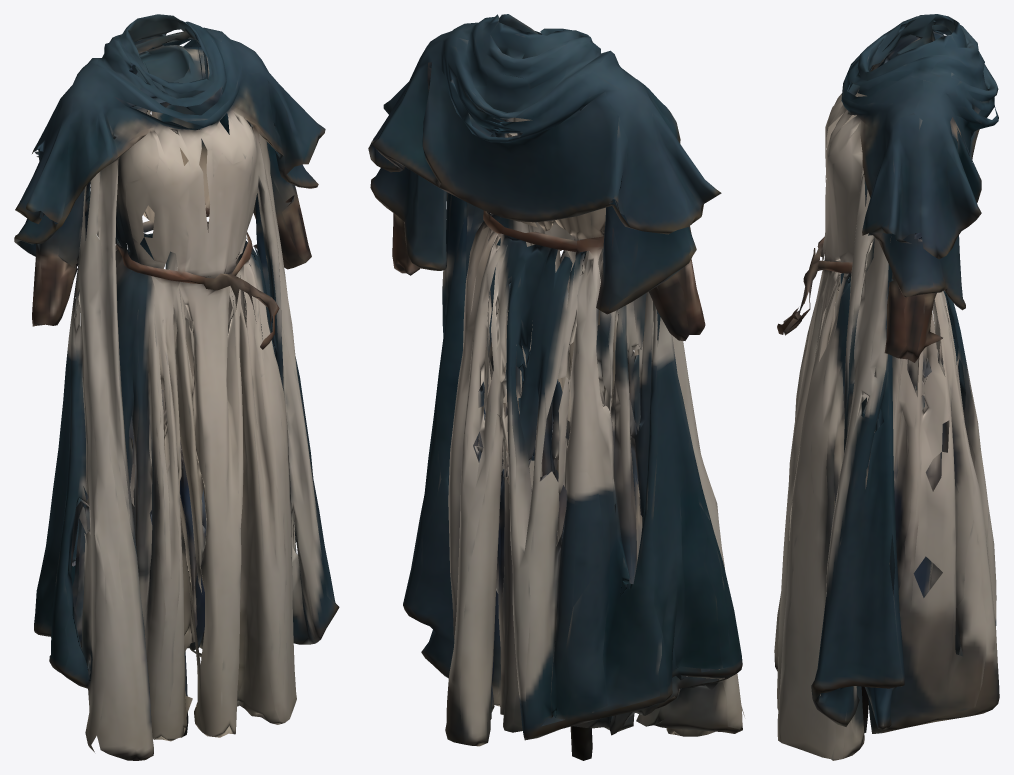
The model's file is armor_mage_robe_legs.glb.
3 renders of one model, left to right at view 1: azimuth 30°, elevation 25°; view 2: azimuth 150°, elevation 25°; view 3: azimuth 270°, elevation 25°, orthographic. The views are drawn at different scales.
Parts seen in each view (by area): view 1: world; view 2: world; view 3: world.
Boxes of the visible parts, <box> form: world: <box>14,14,339,760</box>; world: <box>368,14,744,760</box>; world: <box>774,14,999,760</box>.
Size of the model in its own units: 0.4616 by 0.9998 by 0.2858.
1 material, 1 textured.
